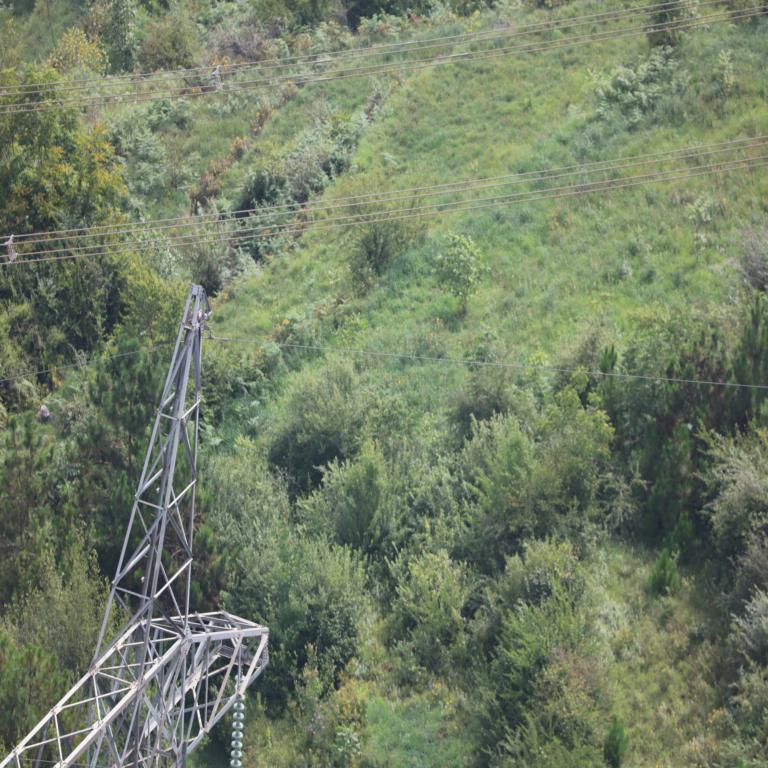nest: (154, 511, 201, 553)
